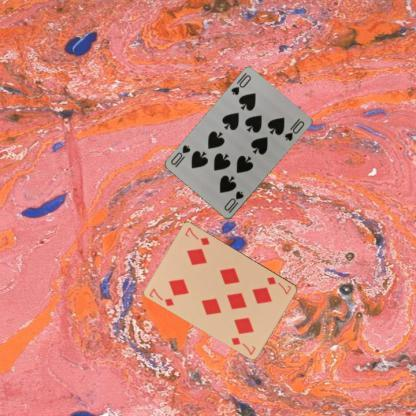10s: (228, 72, 253, 98), (221, 188, 245, 212)
7d: (146, 286, 176, 308), (263, 274, 292, 296)
